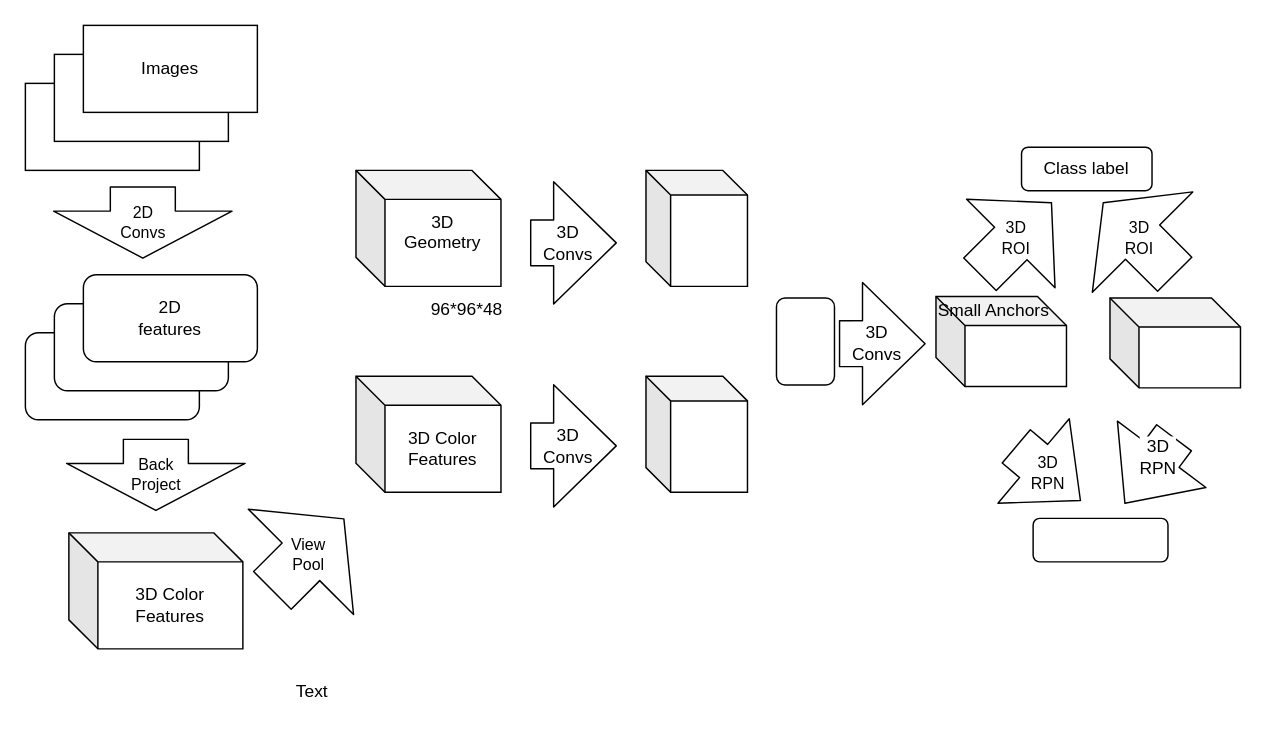
Some shapes in this 1273 by 732 pixel diagram are drawn without their labels. Each missing label, with the box of its shape:
concat: (775, 297, 834, 385)
Large Anchors: (1109, 297, 1240, 388)
objectness Box Lacation: (1032, 517, 1168, 562)
